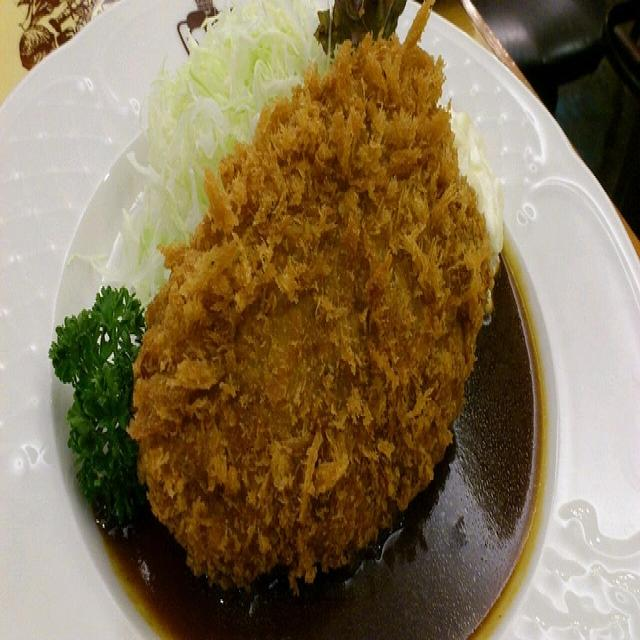炸货点心: (64, 5, 526, 624)
